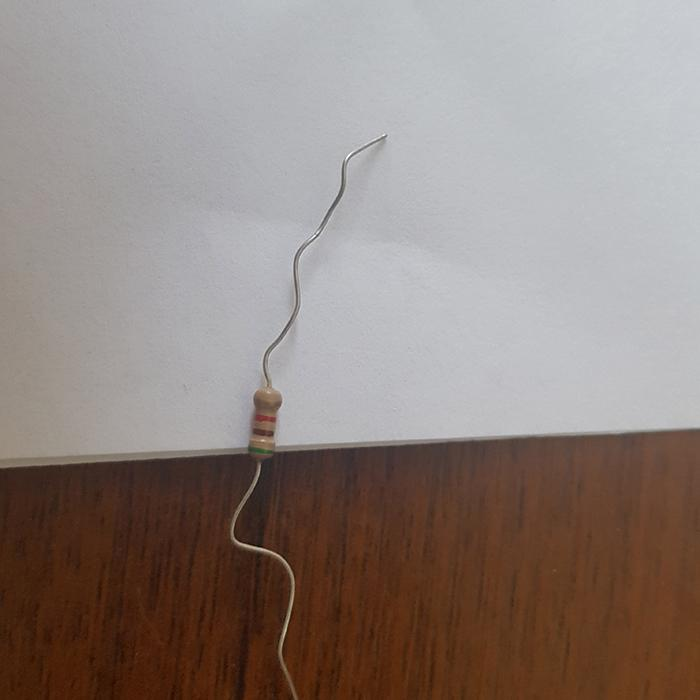resistor: (248, 385, 282, 459)
